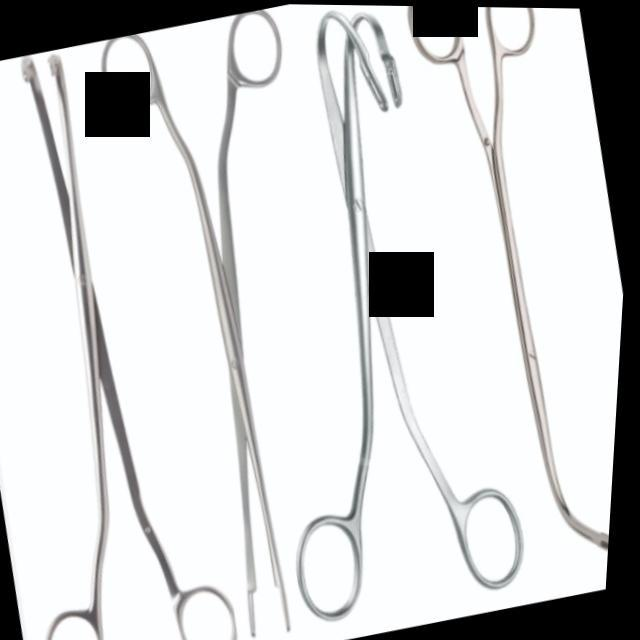Randall: (184, 2, 558, 640), (374, 4, 640, 578)
